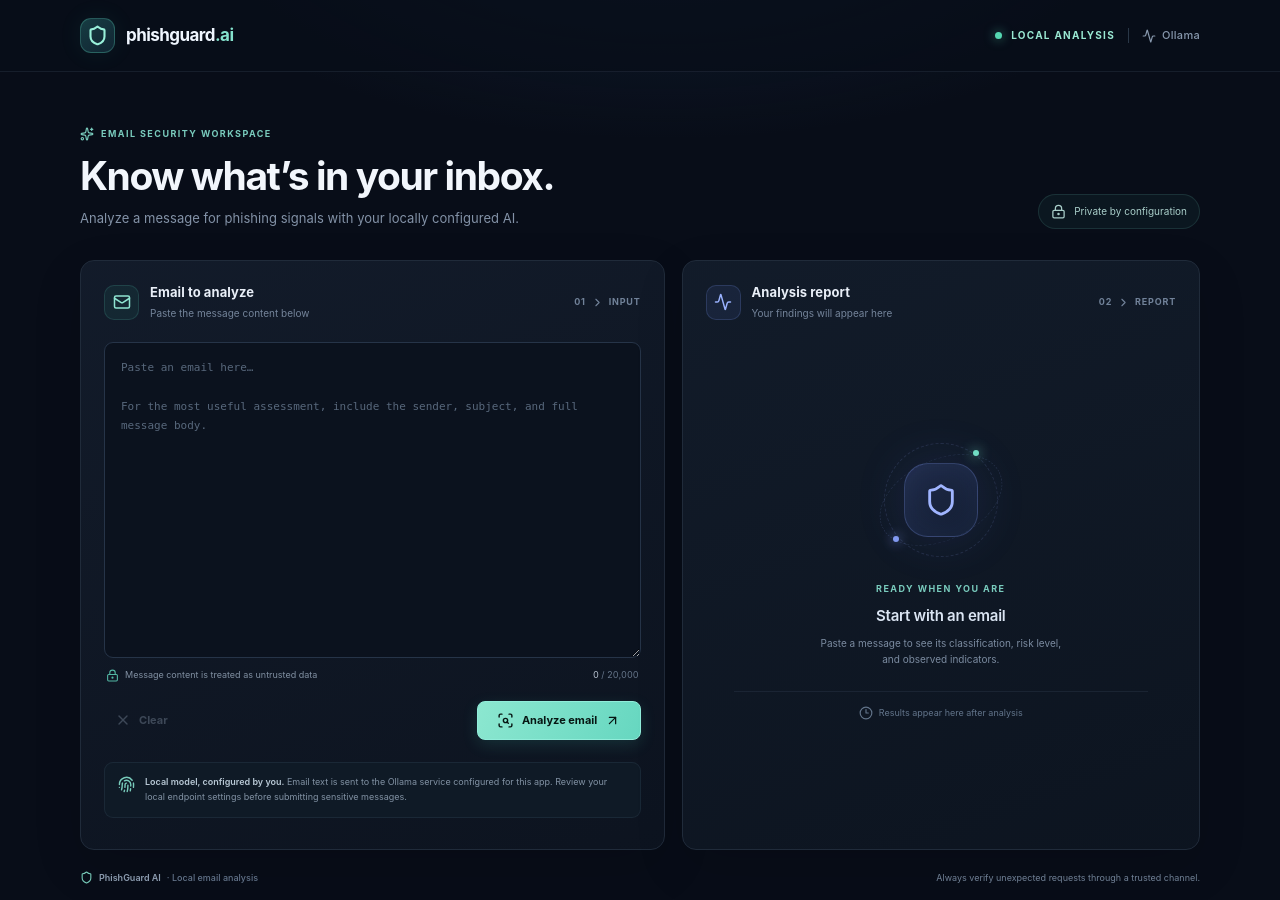
it: PhishGuard dashboard › shows a clear message when the network request fails
Replace the text in the text box named "Email text" with "A message to assess" at (372, 500), box x1=104 y1=342 x2=641 y2=658
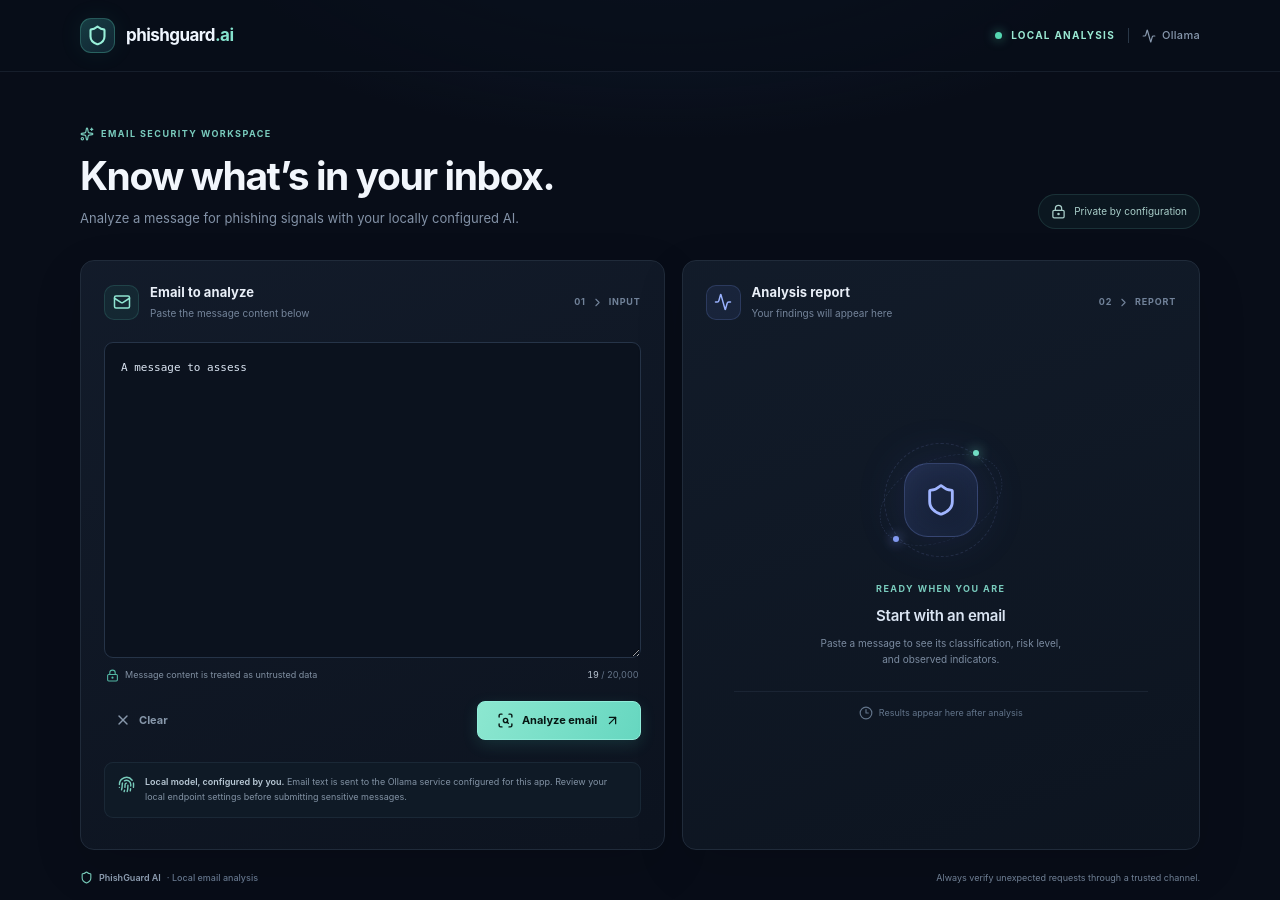
Click the button "Analyze email" at (559, 720), box x1=477 y1=701 x2=641 y2=740
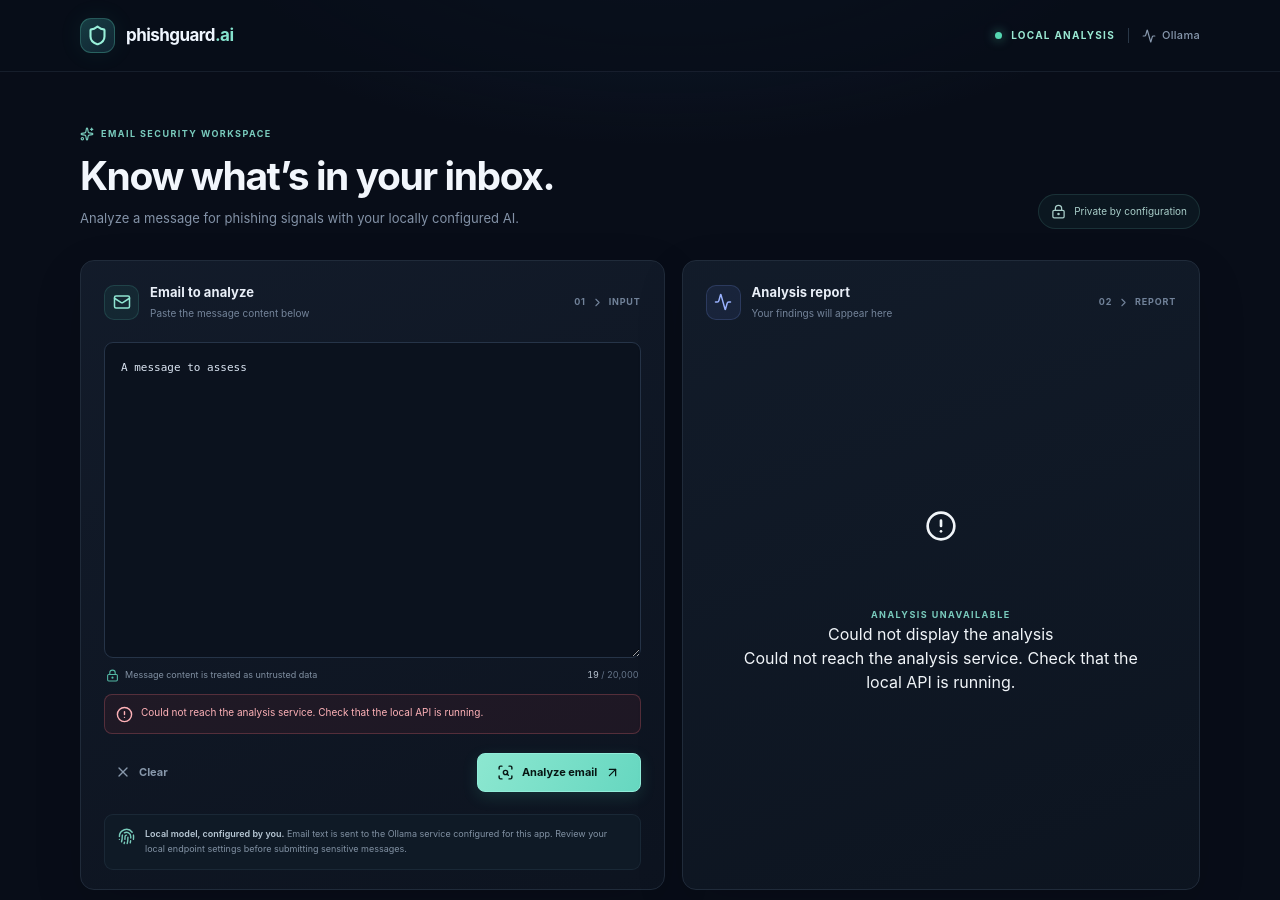
Check: the message "Could not reach the analysis service. Check that the local API is running." is shown, box x1=104 y1=694 x2=641 y2=734
